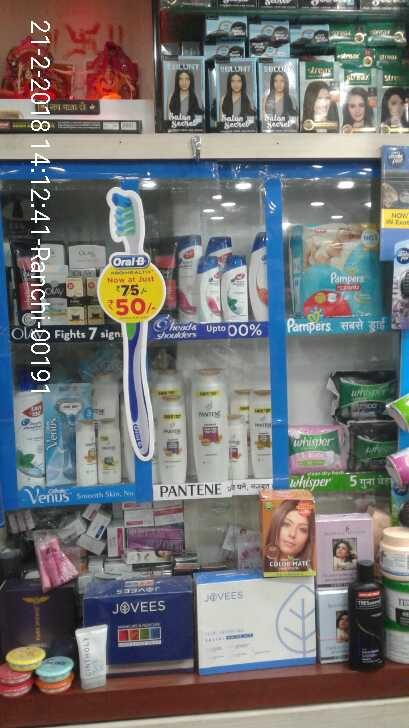venus: (46, 381, 93, 487)
